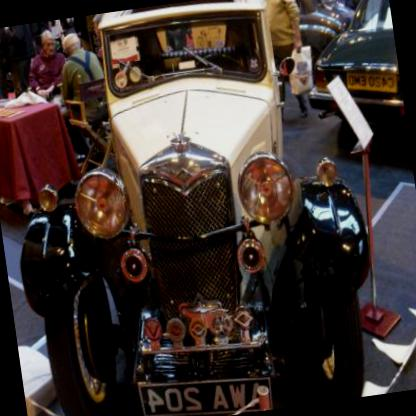car: (0, 0, 390, 415), (289, 0, 408, 147), (284, 0, 362, 61)
